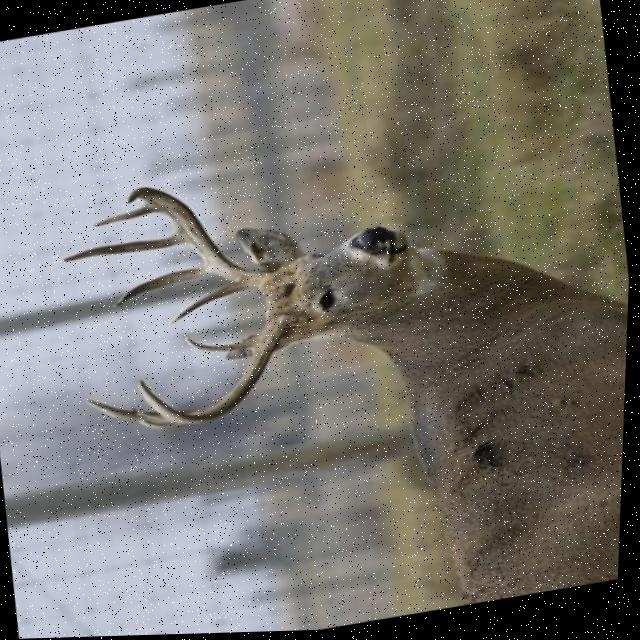L-F: (125, 187, 264, 288)
L-G1: (168, 284, 253, 327)
L-G2: (112, 267, 216, 309)
L-G3: (63, 235, 186, 263)
L-G4: (92, 206, 159, 229)
R-F: (139, 319, 295, 426)
R-G1: (186, 337, 254, 354)
